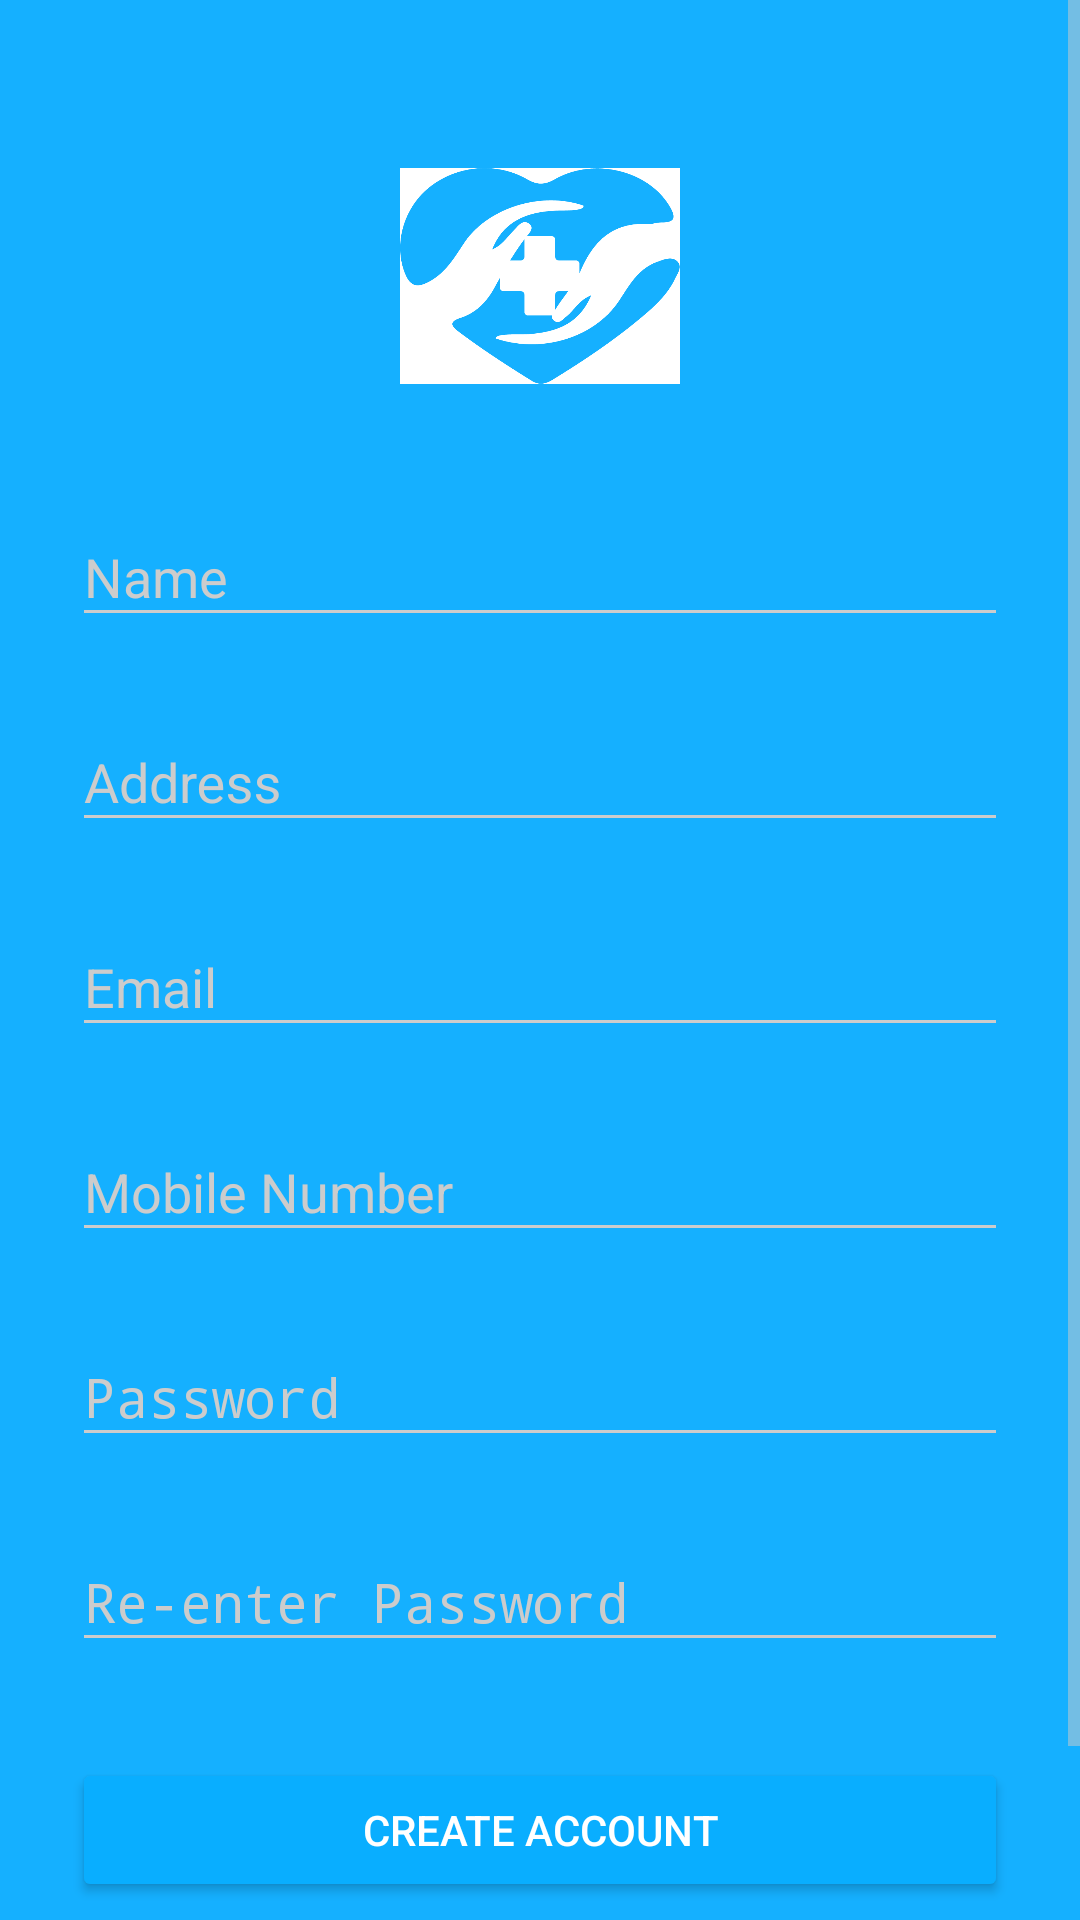

Named icons in this screenshot (1080px x 1920px) and their bounding boxes, {"left": x1, "top": y1, "right": x2, "bottom": y2}:
heart: {"left": 400, "top": 168, "right": 680, "bottom": 384}
